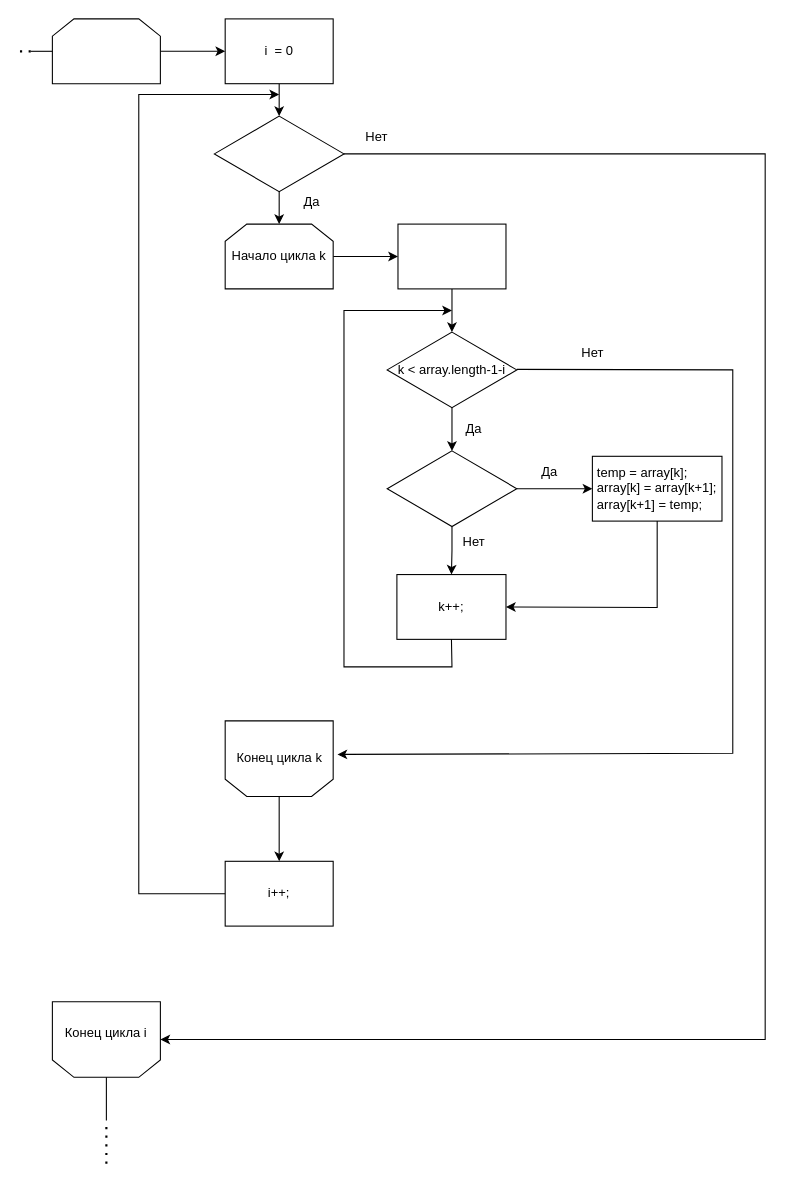
Some shapes in this 793 by 1185 pixel diagram are drawn without their labels. Each missing label, with the centre of its shape:
array[k]>array[k+1]: the point at 451,488
i < array.length-1: the point at 278,153
k = 0: the point at 451,256
Начало цикла i: the point at 105,51
